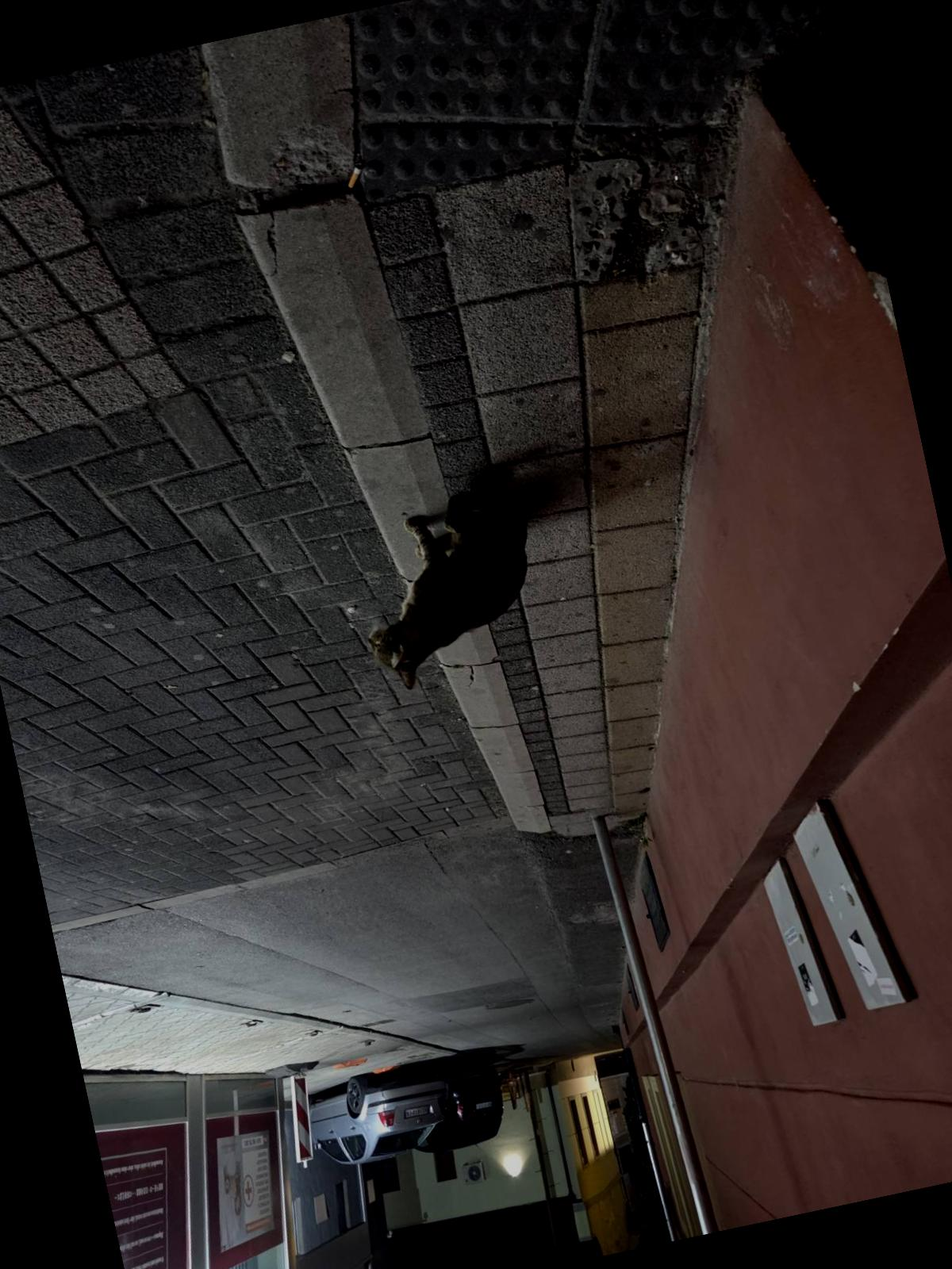macka: (340, 479, 559, 697)
